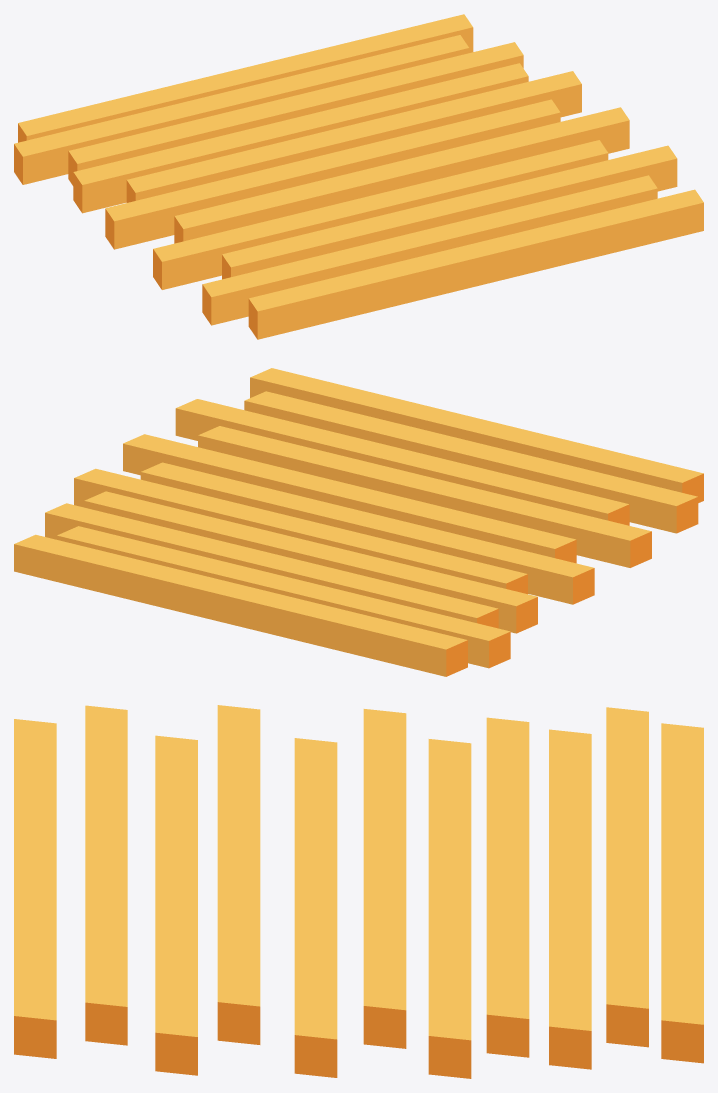
The model's file is Fries_Slice_Fries_0.glb.
The picture shows the model from 3 angles, top to bottom: view 1: azimuth 30°, elevation 25°; view 2: azimuth 150°, elevation 25°; view 3: azimuth 270°, elevation 25°; orthographic projection. The views are drawn at different scales.
Visible parts, largest first — view 1: Fries_Slice_Fries_0; view 2: Fries_Slice_Fries_0; view 3: Fries_Slice_Fries_0.
Boxes of the visible parts, bbox=[...] form: Fries_Slice_Fries_0: bbox=[14, 14, 703, 339]; Fries_Slice_Fries_0: bbox=[14, 368, 703, 676]; Fries_Slice_Fries_0: bbox=[14, 705, 703, 1078].
Size of the model in its own units: 1.86 by 0.1 by 1.62.
1 material, 1 textured.
